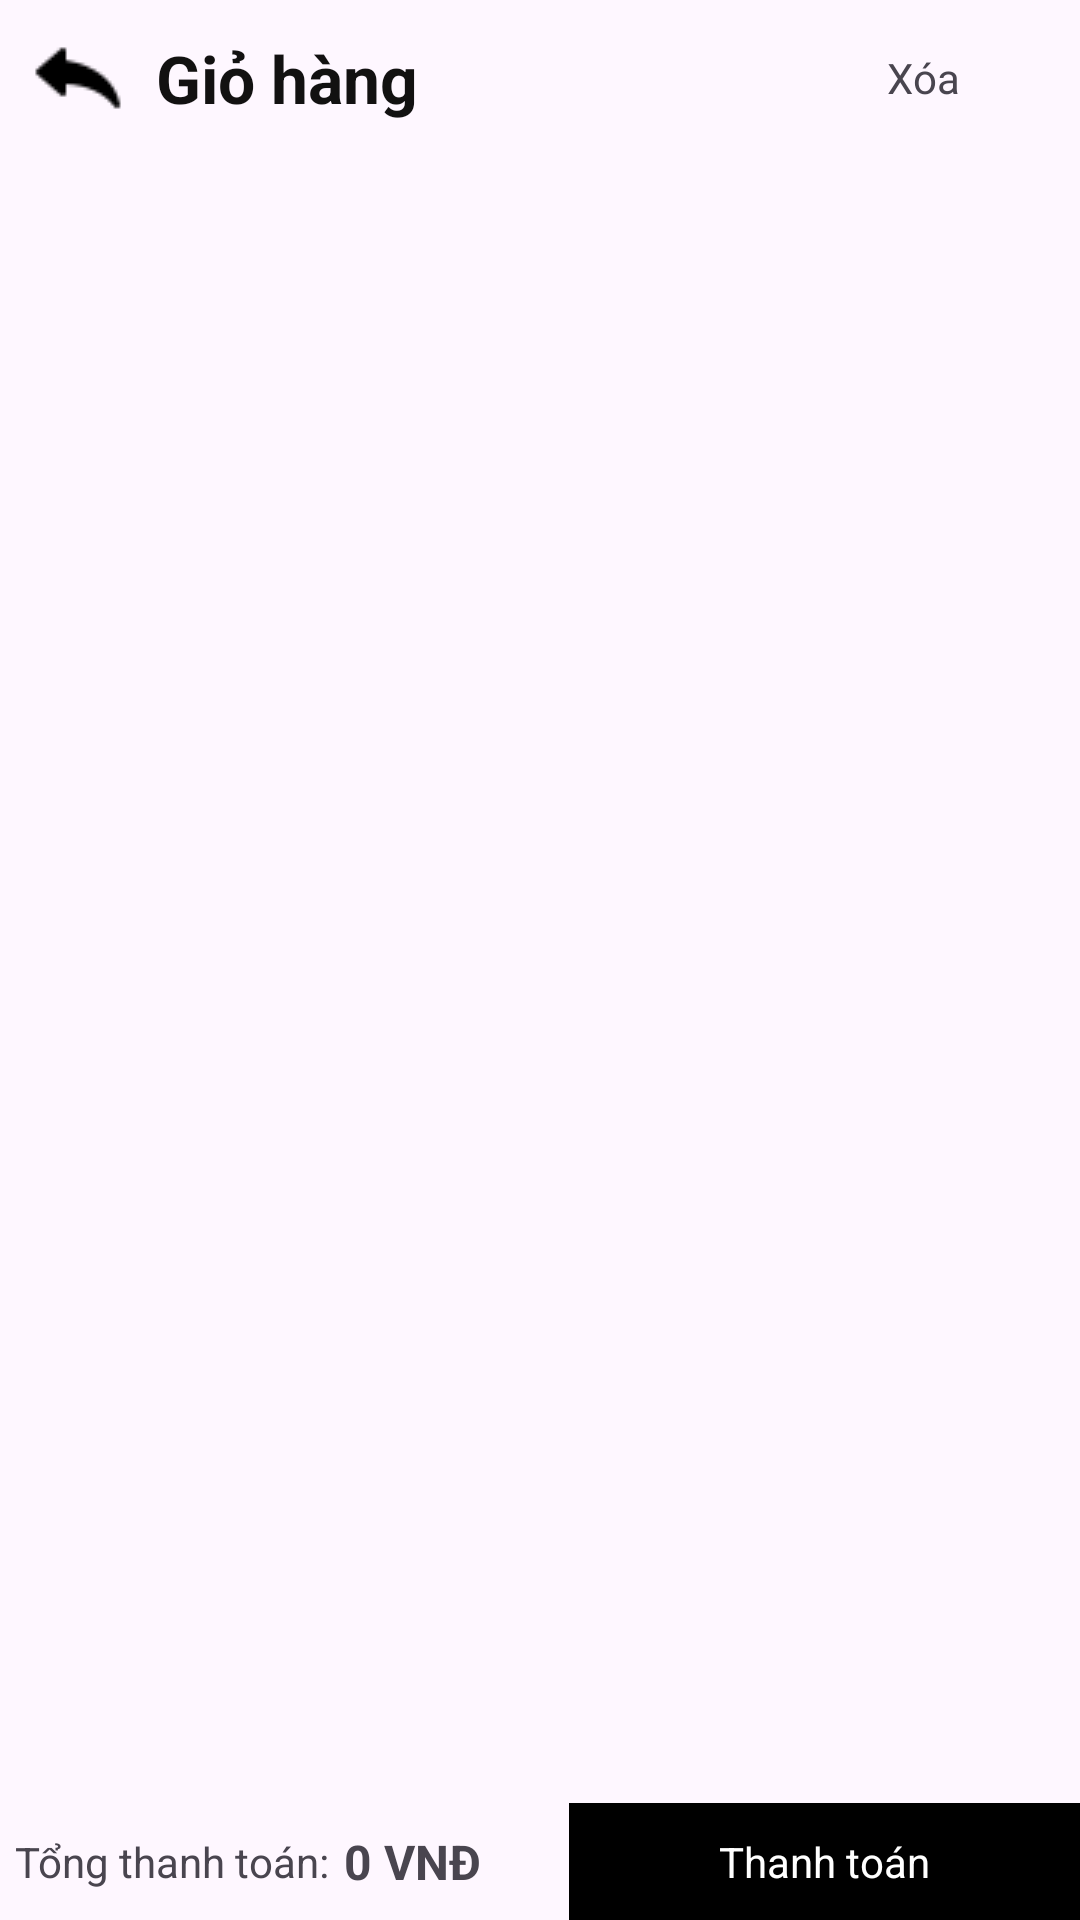

Screen size 1080w x 1920h. Icon name, then its box in pixels as (x1, y1, x2, y2):
back: (35, 47, 121, 109)
